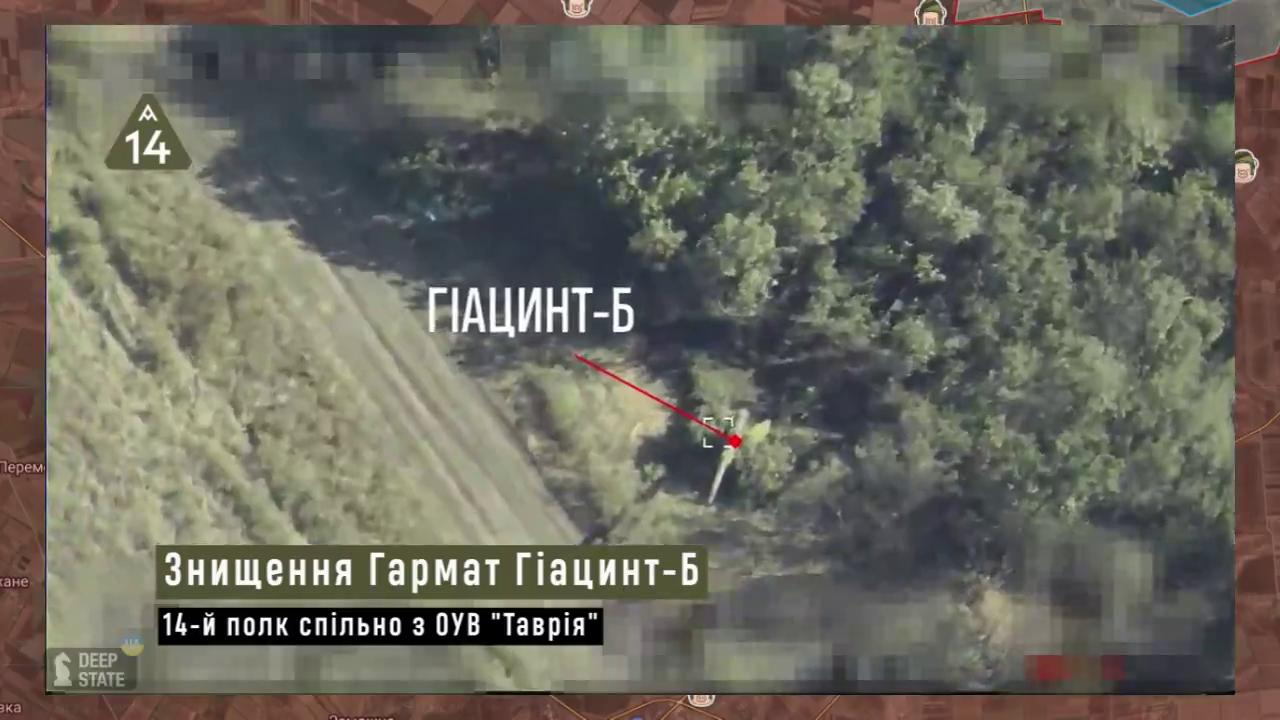tank: (642, 389, 775, 511)
